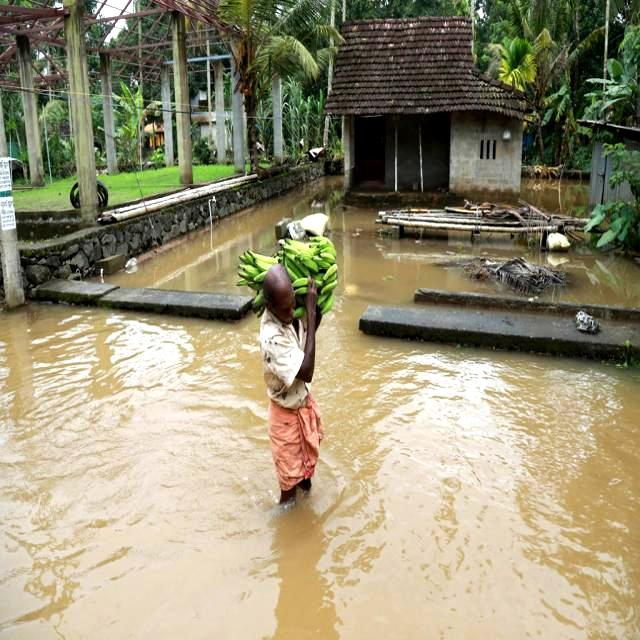civilian: (240, 257, 351, 525)
